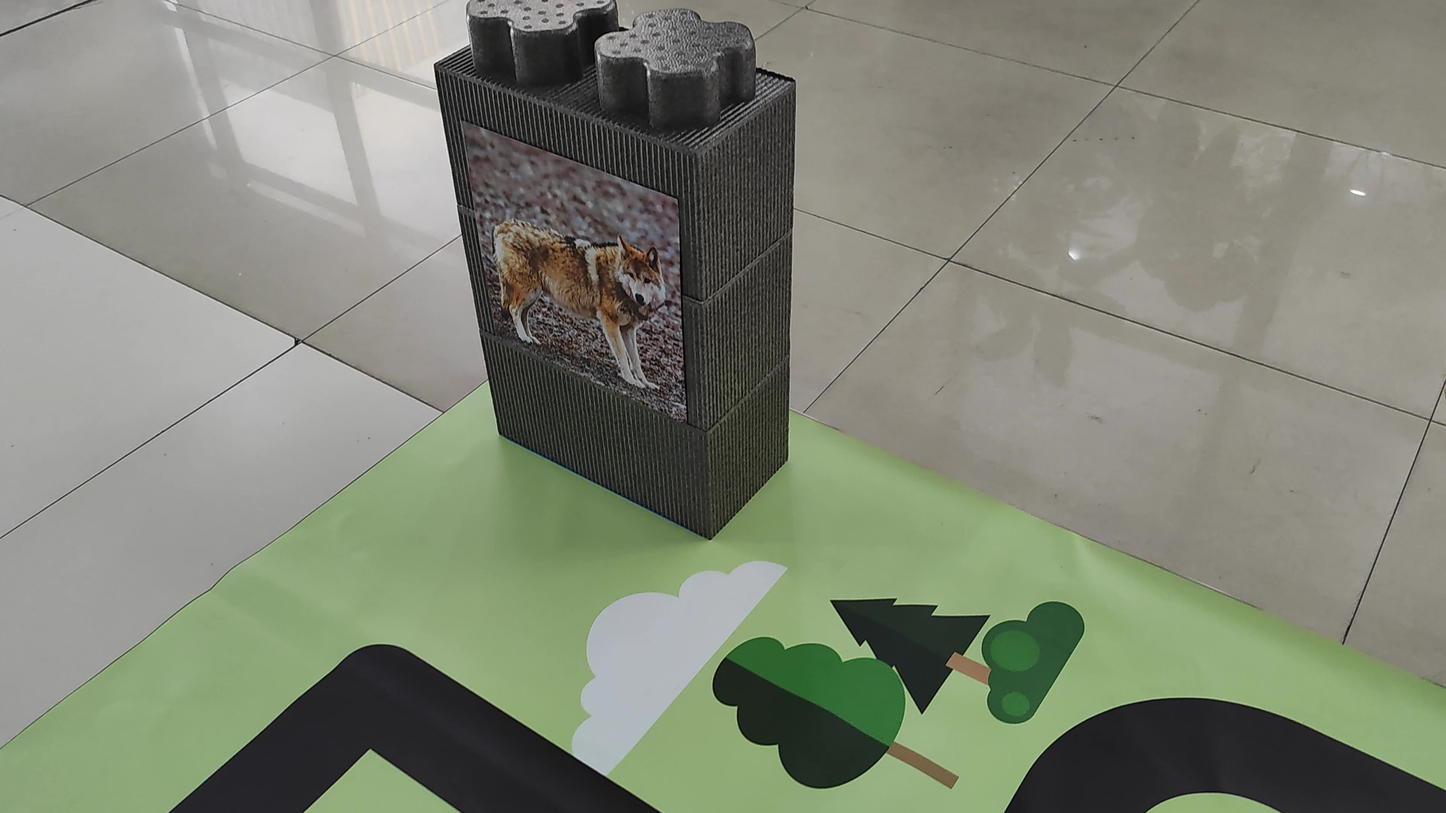wolf: (485, 184, 680, 395)
